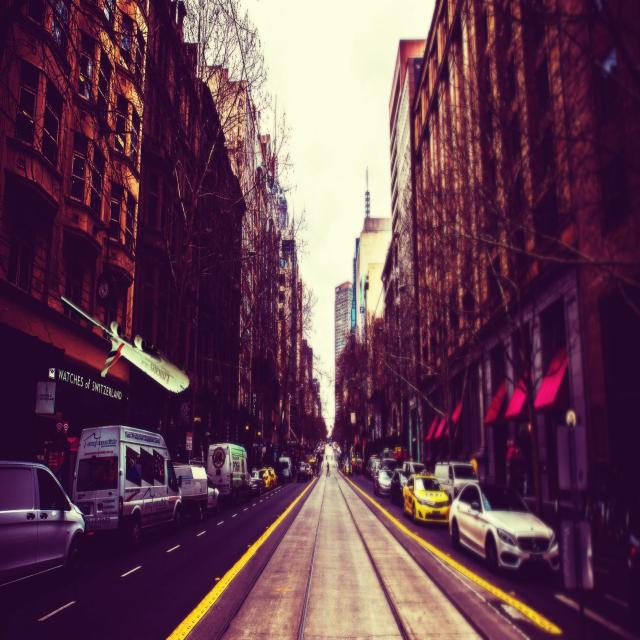airplane: (60, 294, 190, 395)
